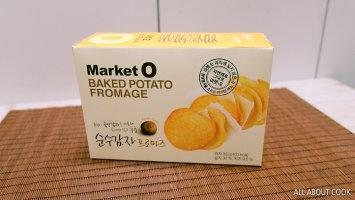snack: (72, 31, 275, 167)
